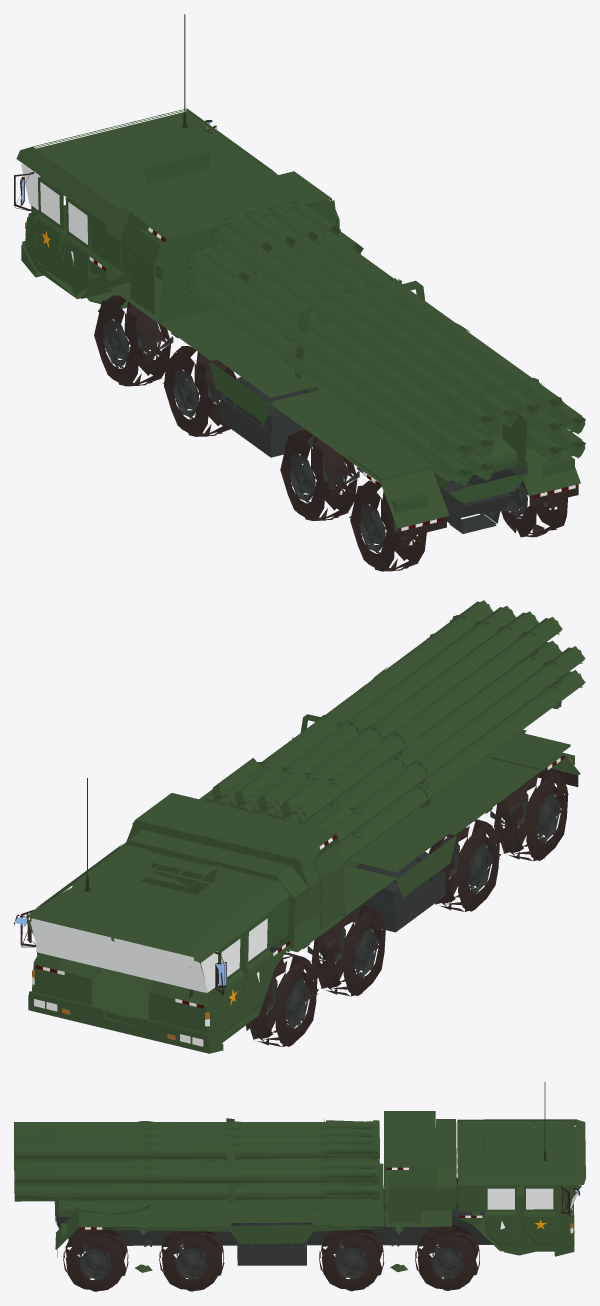
The model's file is type_phl03.glb.
3 views of the same model, one above another, from view 1: azimuth 30°, elevation 25°; view 2: azimuth 150°, elevation 25°; view 3: azimuth 270°, elevation 25° (orthographic). The views are drawn at different scales.
Bounding box in the file's own units: 3.13 × 4.21 × 11.
Materials: 2 (2 with a texture image).
